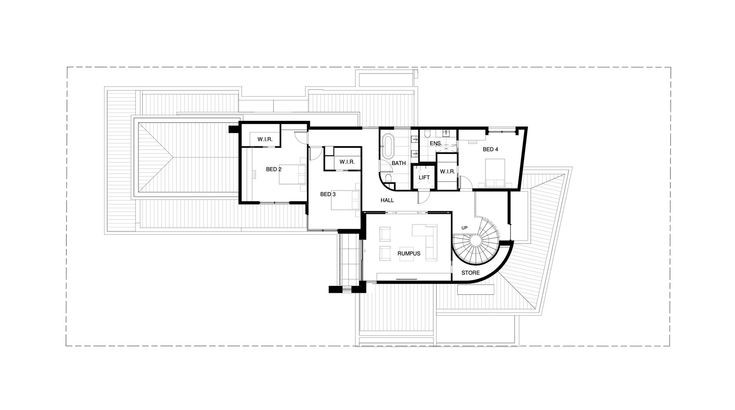door: (459, 172, 474, 192), (292, 129, 311, 144), (378, 157, 393, 175), (311, 144, 322, 163), (417, 190, 433, 203)
room: (377, 123, 522, 198), (362, 210, 451, 281), (235, 120, 311, 202), (306, 146, 365, 234)
wall: (409, 123, 488, 134), (236, 120, 246, 204), (309, 122, 362, 136), (377, 276, 481, 283), (237, 118, 309, 128), (304, 144, 313, 206), (502, 193, 515, 227), (359, 141, 365, 213), (305, 148, 312, 205), (335, 225, 366, 236), (470, 186, 518, 193), (332, 142, 365, 152), (410, 159, 437, 169), (237, 198, 261, 209), (319, 146, 328, 175), (375, 126, 382, 160), (242, 141, 265, 150), (432, 160, 439, 189), (362, 206, 387, 214), (408, 169, 418, 189), (513, 123, 529, 135), (325, 283, 342, 294), (377, 121, 394, 132), (289, 198, 306, 208), (321, 146, 327, 172), (352, 283, 366, 294), (276, 123, 282, 147), (348, 166, 362, 175), (499, 240, 516, 247), (321, 168, 335, 175)
